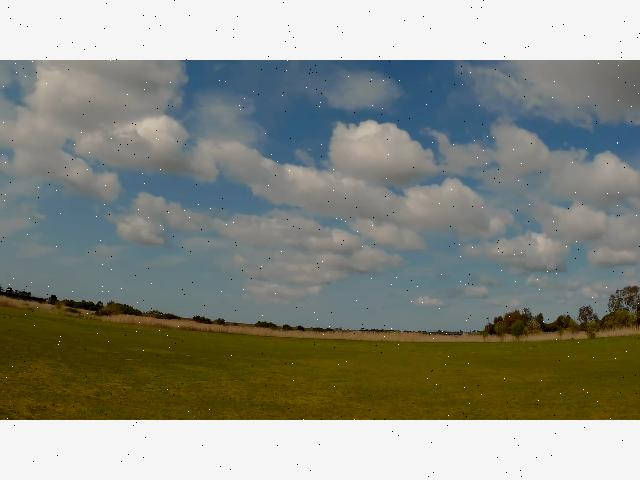Anti-Drone: (308, 144, 328, 160)
